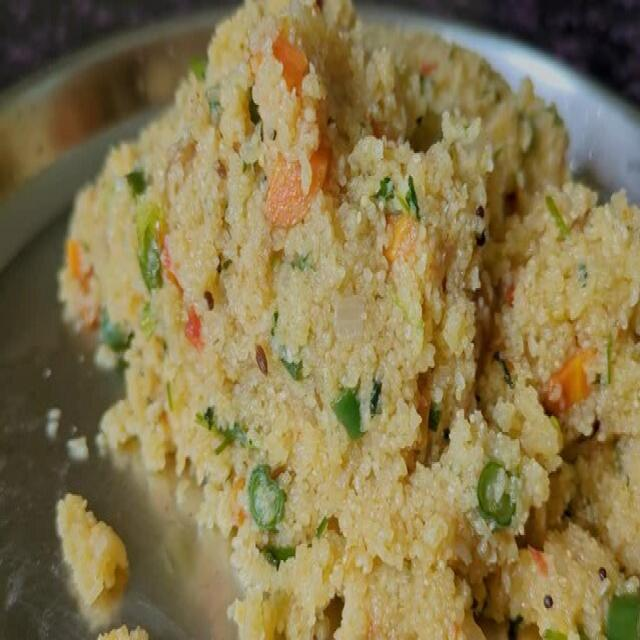UPMA: (52, 1, 639, 638)
